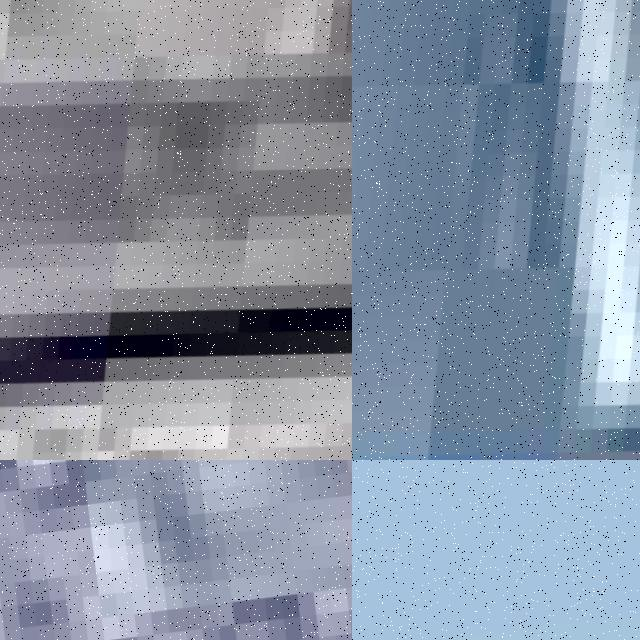drone: (0, 0, 352, 460), (352, 0, 640, 460)
